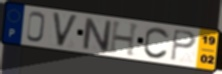0: (26, 11, 47, 43)
C: (142, 26, 171, 61)
H: (108, 20, 142, 58)
N: (82, 16, 113, 54)
P: (170, 28, 198, 62)
V: (51, 11, 80, 49)
